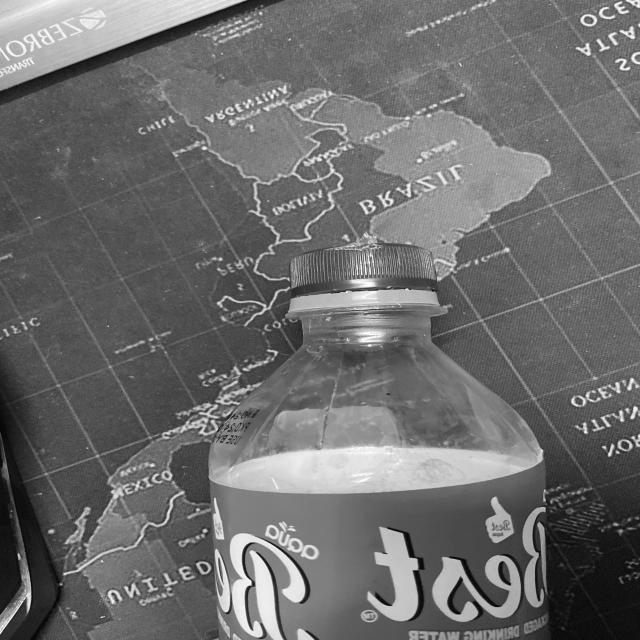Good-cap-Df0S: (282, 243, 444, 316)
